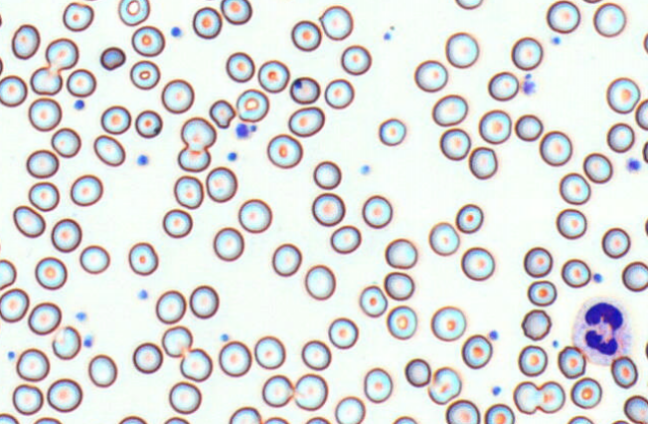GRAN: (572, 296, 637, 364)
PLT: (232, 121, 250, 140), (624, 157, 641, 171), (487, 327, 501, 344), (82, 335, 96, 349), (522, 82, 536, 96), (135, 154, 150, 167), (170, 26, 183, 39), (6, 351, 19, 364), (592, 272, 604, 284), (73, 100, 85, 111), (75, 310, 88, 320), (136, 289, 149, 299), (220, 332, 232, 341), (249, 121, 258, 133), (228, 150, 237, 161), (383, 32, 394, 41), (361, 164, 370, 175), (551, 35, 562, 44), (492, 386, 503, 395)
RBC: (430, 305, 466, 341), (427, 366, 461, 404), (266, 133, 302, 168), (293, 373, 327, 410), (606, 76, 640, 113), (318, 5, 353, 40), (237, 198, 272, 233), (180, 116, 216, 150), (46, 378, 82, 412), (218, 340, 251, 377), (445, 31, 478, 68), (460, 246, 494, 281), (539, 130, 572, 166), (311, 192, 345, 226), (235, 88, 269, 122), (478, 109, 511, 144), (593, 2, 626, 37), (161, 78, 194, 113), (205, 166, 237, 202), (287, 106, 324, 137), (179, 347, 212, 381), (16, 347, 49, 381), (27, 301, 61, 334), (546, 0, 580, 33), (510, 36, 543, 70), (28, 97, 61, 131), (34, 256, 67, 290), (212, 226, 244, 261), (432, 94, 467, 126), (304, 264, 335, 300), (45, 37, 78, 70), (168, 381, 201, 414), (414, 59, 447, 92), (257, 59, 289, 93), (461, 334, 492, 369), (155, 289, 186, 324), (261, 374, 293, 407), (12, 205, 45, 237), (384, 237, 417, 269), (70, 174, 103, 206), (428, 221, 459, 255), (386, 305, 417, 339), (254, 335, 285, 369), (361, 194, 392, 228), (50, 218, 81, 252), (363, 367, 392, 403), (11, 23, 40, 59), (570, 377, 602, 409), (93, 134, 125, 166), (439, 127, 470, 160), (131, 25, 164, 56), (51, 325, 81, 359), (87, 353, 117, 387), (189, 284, 219, 318), (271, 242, 301, 276), (173, 175, 203, 209), (128, 241, 158, 275), (0, 287, 29, 322), (12, 383, 43, 415), (161, 325, 192, 357), (559, 172, 590, 204), (290, 19, 321, 51), (192, 6, 222, 39), (129, 59, 160, 90), (340, 44, 371, 75), (521, 308, 551, 340), (517, 344, 547, 376), (328, 317, 358, 349), (487, 71, 519, 101), (536, 380, 565, 413), (557, 345, 586, 378), (29, 66, 62, 95), (468, 146, 497, 179), (28, 181, 59, 211), (556, 208, 586, 239), (132, 342, 162, 373), (50, 127, 81, 157), (301, 339, 331, 370), (79, 244, 110, 274), (324, 78, 354, 109), (26, 149, 58, 178), (610, 355, 638, 388), (162, 208, 192, 238), (383, 271, 414, 300), (523, 246, 552, 277), (330, 224, 361, 253), (601, 227, 630, 258), (225, 51, 254, 82), (583, 152, 612, 183), (100, 105, 131, 134), (359, 285, 387, 317), (177, 145, 210, 172), (0, 74, 27, 107), (513, 380, 539, 414), (561, 258, 590, 288), (66, 68, 96, 97), (606, 122, 635, 152), (334, 395, 365, 423), (289, 76, 320, 104), (117, 0, 150, 26), (312, 160, 341, 189), (445, 399, 480, 423), (455, 203, 483, 233), (621, 261, 648, 292), (514, 113, 543, 141), (378, 117, 406, 146), (134, 109, 162, 138), (404, 357, 431, 387), (220, 0, 252, 24), (527, 280, 556, 306), (623, 394, 647, 423), (484, 403, 514, 423), (228, 406, 261, 423), (0, 258, 16, 289), (635, 98, 648, 130), (455, 0, 483, 9), (118, 415, 147, 423), (566, 415, 593, 423), (0, 412, 19, 423), (33, 416, 62, 423), (392, 415, 417, 423), (263, 416, 289, 423), (163, 416, 189, 423), (304, 416, 330, 423), (642, 139, 648, 163), (643, 31, 648, 54), (610, 419, 630, 424), (644, 338, 648, 361), (644, 215, 648, 238), (582, 0, 603, 4), (0, 55, 4, 75)
Schistocyte: (63, 3, 94, 32), (210, 100, 235, 129), (100, 43, 126, 70)
